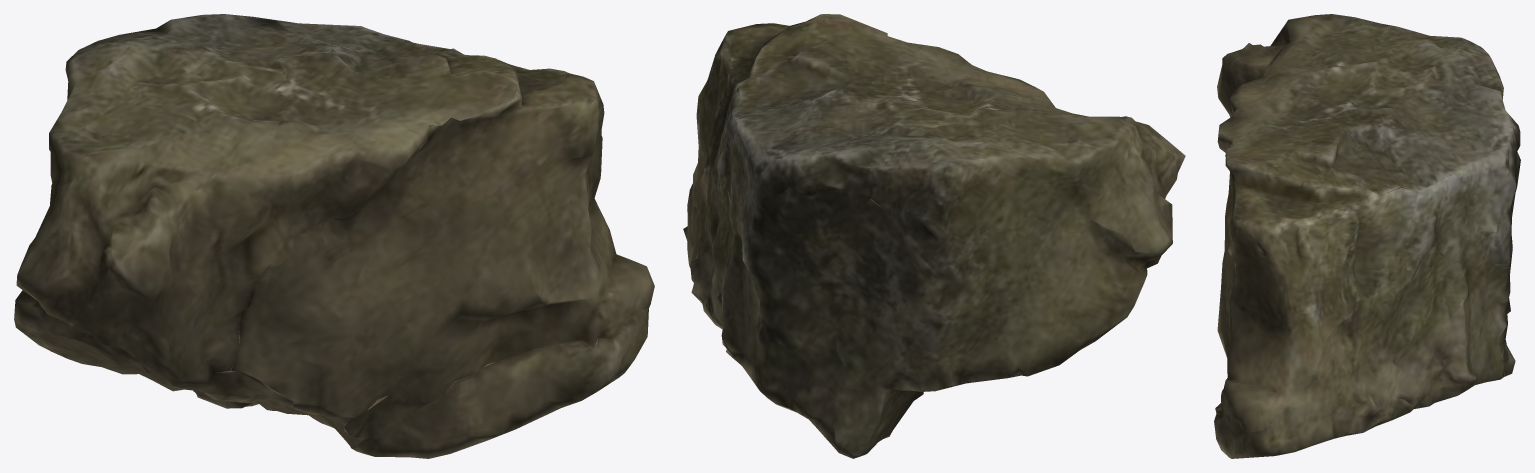
The model's file is rock_moss_set_02_rock13.glb.
3 renders of one model, left to right at view 1: azimuth 30°, elevation 25°; view 2: azimuth 150°, elevation 25°; view 3: azimuth 270°, elevation 25°, orthographic. The views are drawn at different scales.
Visible parts, largest first — view 1: rock_moss_set_02_rock13; view 2: rock_moss_set_02_rock13; view 3: rock_moss_set_02_rock13.
Part boxes in pixels (<box>): rock_moss_set_02_rock13: <box>14,14,654,458</box>; rock_moss_set_02_rock13: <box>683,14,1185,458</box>; rock_moss_set_02_rock13: <box>1214,14,1520,458</box>.
Bounding box in the file's own units: 2.09 × 1.25 × 1.14.
Materials: 1 (1 with a texture image).
